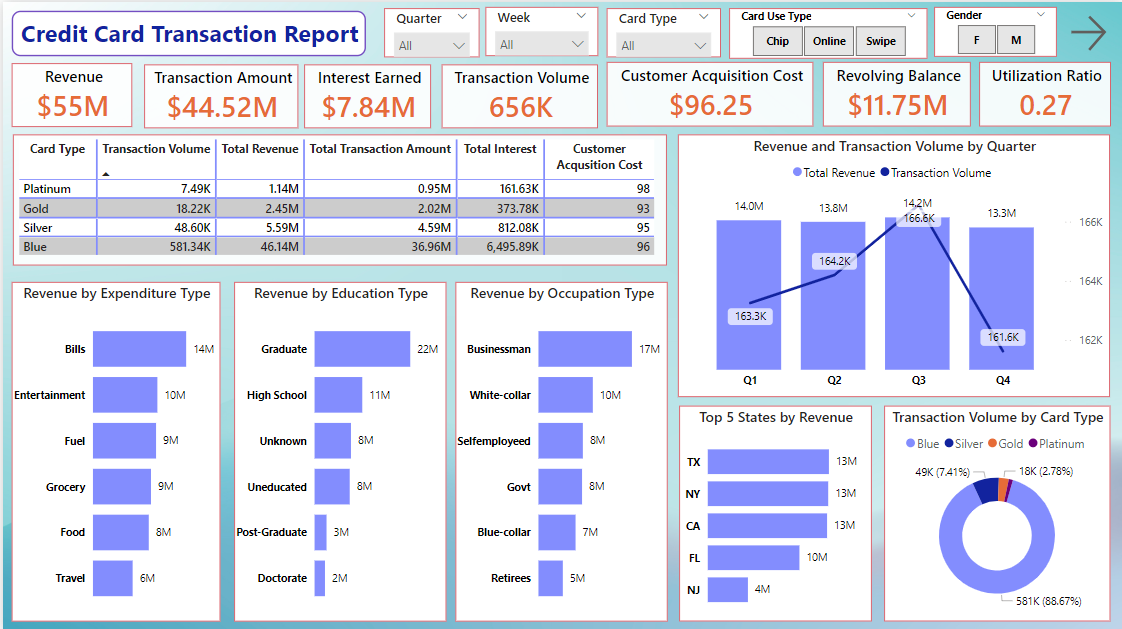

Layout of this report page (visuals, bound fields, positions):
{"tool":"powerbi","page":{"name":"Transaction","canvas":[1280,720],"ordinal":0},"visuals":[{"type":"textbox","box":[10.7,10.7,405,52],"z":0},{"type":"barChart","title":"Revenue by Expenditure Type","fields":{"Y":["Base Measures.Total Revenue"],"Category":["credit_card.Exp_Type"]},"box":[10.7,319.7,238.5,387.7],"z":1000},{"type":"barChart","title":"Revenue by Education Type","fields":{"Category":["customer.Education_Level"],"Y":["Base Measures.Total Revenue"]},"box":[263.8,319.7,242.5,387.7],"z":2000},{"type":"barChart","title":"Revenue by Occupation Type","fields":{"Category":["customer.Customer_Job"],"Y":["Base Measures.Total Revenue"]},"box":[516.9,319.7,242.5,387.7],"z":3000},{"type":"lineStackedColumnComboChart","title":"Revenue and Transaction Volume by Quarter","fields":{"Category":["credit_card.Qtr"],"Y":["Base Measures.Total Revenue"],"Y2":["Base Measures.transaction volume"]},"box":[771.2,151.2,493.8,300],"z":4000},{"type":"tableEx","fields":{"Values":["credit_card.Card_Category","Base Measures.transaction volume","Base Measures.Total Revenue","Base Measures.Total Transaction Amount","Base Measures.Total Interest","Base Measures.Customer acqusition cost"]},"box":[12,151.9,747.4,149.2],"z":5000},{"type":"card","title":"Revenue","fields":{"Values":["Base Measures.Total Revenue"]},"box":[10,70,137.5,72.5],"z":6000},{"type":"card","title":"Transaction Amount","fields":{"Values":["Base Measures.Total Transaction Amount"]},"box":[161.2,71.2,176.2,72.5],"z":7000},{"type":"card","title":"Interest Earned","fields":{"Values":["Base Measures.Total Interest"]},"box":[343.8,71.2,145,72.5],"z":8000},{"type":"card","title":"Transaction Volume","fields":{"Values":["Base Measures.transaction volume"]},"box":[501.2,71.2,178.8,72.5],"z":9000},{"type":"slicer","fields":{"Values":["credit_card.Week_Num"]},"box":[551.4,5.7,128.6,55.7],"z":10000},{"type":"slicer","fields":{"Values":["credit_card.Qtr"]},"box":[435.7,7.1,108.6,55.7],"z":11000},{"type":"card","title":"Customer Acquisition Cost","fields":{"Values":["Base Measures.Customer acqusition cost"]},"box":[690,68.8,236.2,73.8],"z":12000},{"type":"card","title":"Revolving Balance","fields":{"Values":["Base Measures.revolving balance"]},"box":[937.5,68.8,168.8,73.8],"z":13000},{"type":"card","title":"Utilization Ratio","fields":{"Values":["Base Measures.Utilization ratio"]},"box":[1115,68.8,150,73.8],"z":14000},{"type":"slicer","fields":{"Values":["credit_card.Card Category"]},"box":[690,7.1,130,55.7],"z":15000},{"type":"slicer","fields":{"Values":["credit_card.Use_Chip"]},"box":[830,6.7,226.5,57.3],"z":16000},{"type":"slicer","fields":{"Values":["customer.Gender"]},"box":[1064,5.7,140,57.1],"z":17000},{"type":"barChart","title":"Top 5 States by Revenue","fields":{"Category":["customer.state_cd"],"Y":["Base Measures.Total Revenue"]},"box":[772.7,461,219.8,246.5],"z":18000},{"type":"donutChart","title":"Transaction Volume by Card Type","fields":{"Category":["credit_card.Card Type"],"Y":["Base Measures.transaction volume"]},"box":[1007.2,461,258.5,246.5],"z":19000},{"type":"actionButton","box":[1214.3,10,51.4,51.4],"z":20000}]}

Visuals, with their boxes in screenshot pixels (x1, y1, x2, y2), scaled from the page's 1280x720 canvas onto the 1122x629 screenshot:
textbox: <box>9,9,364,55</box>
"Revenue by Expenditure Type" barChart: <box>9,279,218,618</box>
"Revenue by Education Type" barChart: <box>231,279,444,618</box>
"Revenue by Occupation Type" barChart: <box>453,279,666,618</box>
"Revenue and Transaction Volume by Quarter" lineStackedColumnComboChart: <box>676,132,1109,394</box>
tableEx - credit_card.Card_Category x Base Measures.transaction volume: <box>11,133,666,263</box>
"Revenue" card: <box>9,61,129,124</box>
"Transaction Amount" card: <box>141,62,296,126</box>
"Interest Earned" card: <box>301,62,428,126</box>
"Transaction Volume" card: <box>439,62,596,126</box>
slicer - credit_card.Week_Num: <box>483,5,596,54</box>
slicer - credit_card.Qtr: <box>382,6,477,55</box>
"Customer Acquisition Cost" card: <box>605,60,812,125</box>
"Revolving Balance" card: <box>822,60,970,125</box>
"Utilization Ratio" card: <box>977,60,1109,125</box>
slicer - credit_card.Card Category: <box>605,6,719,55</box>
slicer - credit_card.Use_Chip: <box>728,6,926,56</box>
slicer - customer.Gender: <box>933,5,1055,55</box>
"Top 5 States by Revenue" barChart: <box>677,403,870,618</box>
"Transaction Volume by Card Type" donutChart: <box>883,403,1109,618</box>
actionButton: <box>1064,9,1109,54</box>
